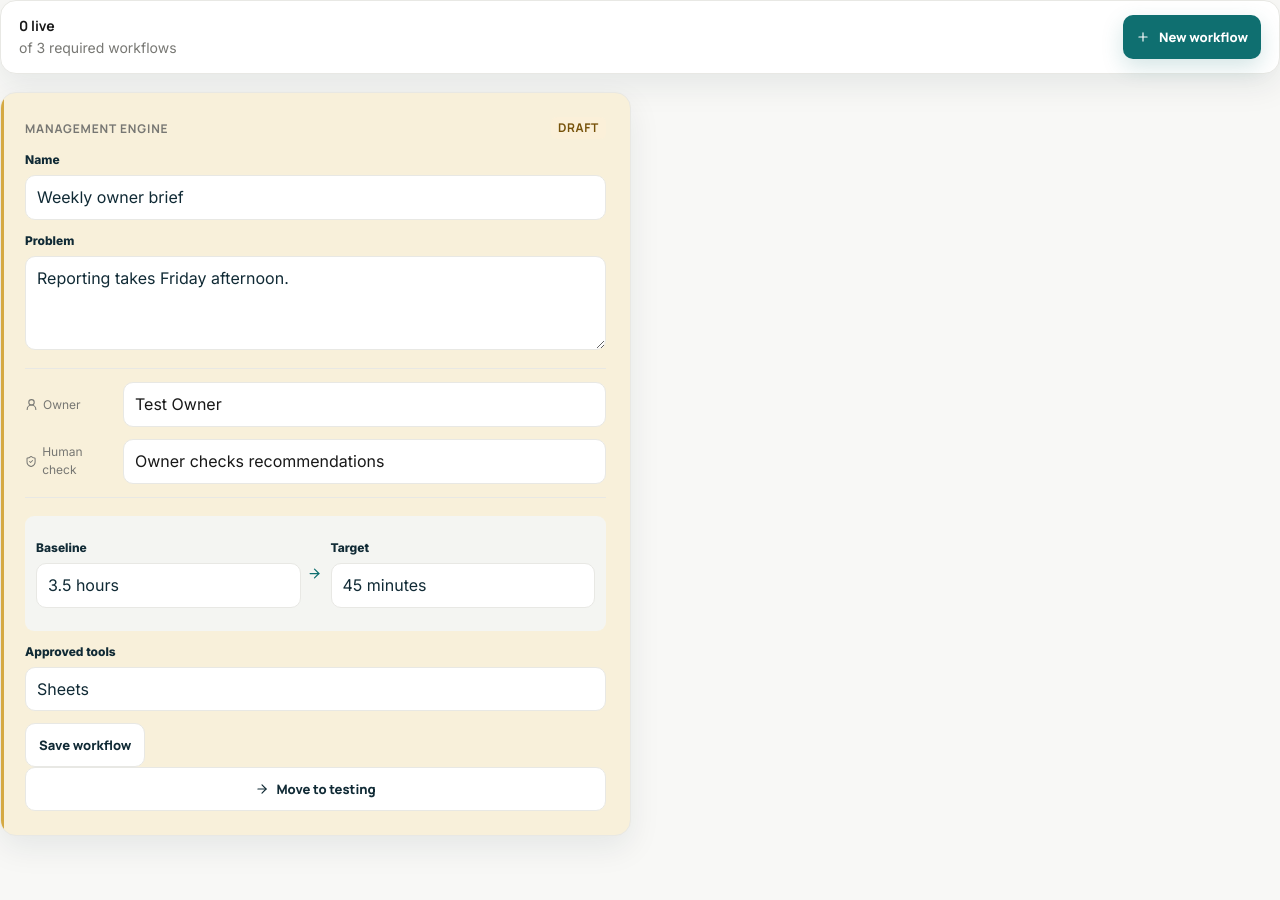
Test case: WorkflowBoard › moves a draft workflow into testing
Click the button with aria-label "move weekly owner brief to testing".
click(316, 789)  # box x1=25 y1=767 x2=606 y2=811
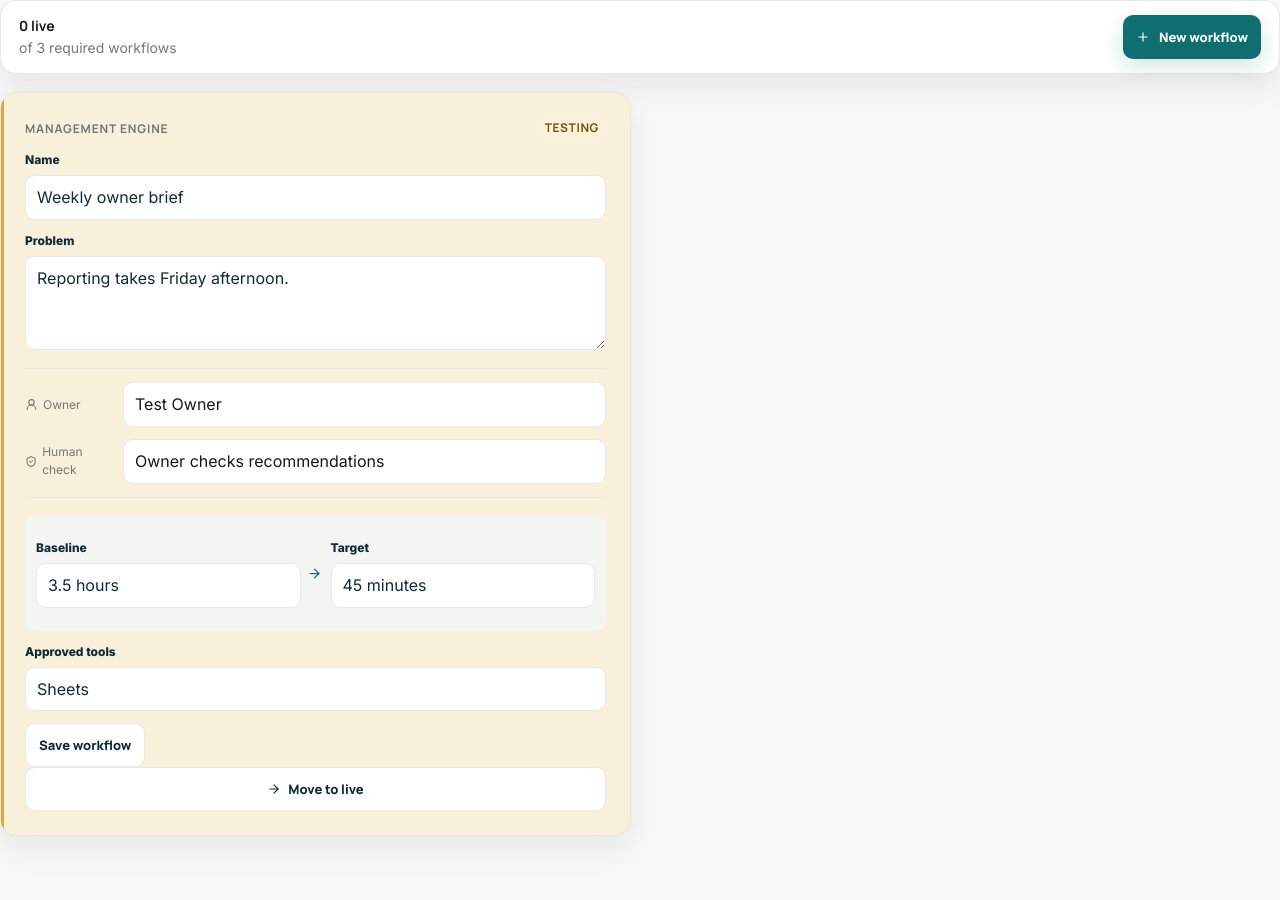
Result: the text "Testing" is shown at x1=538 y1=117 x2=606 y2=139
